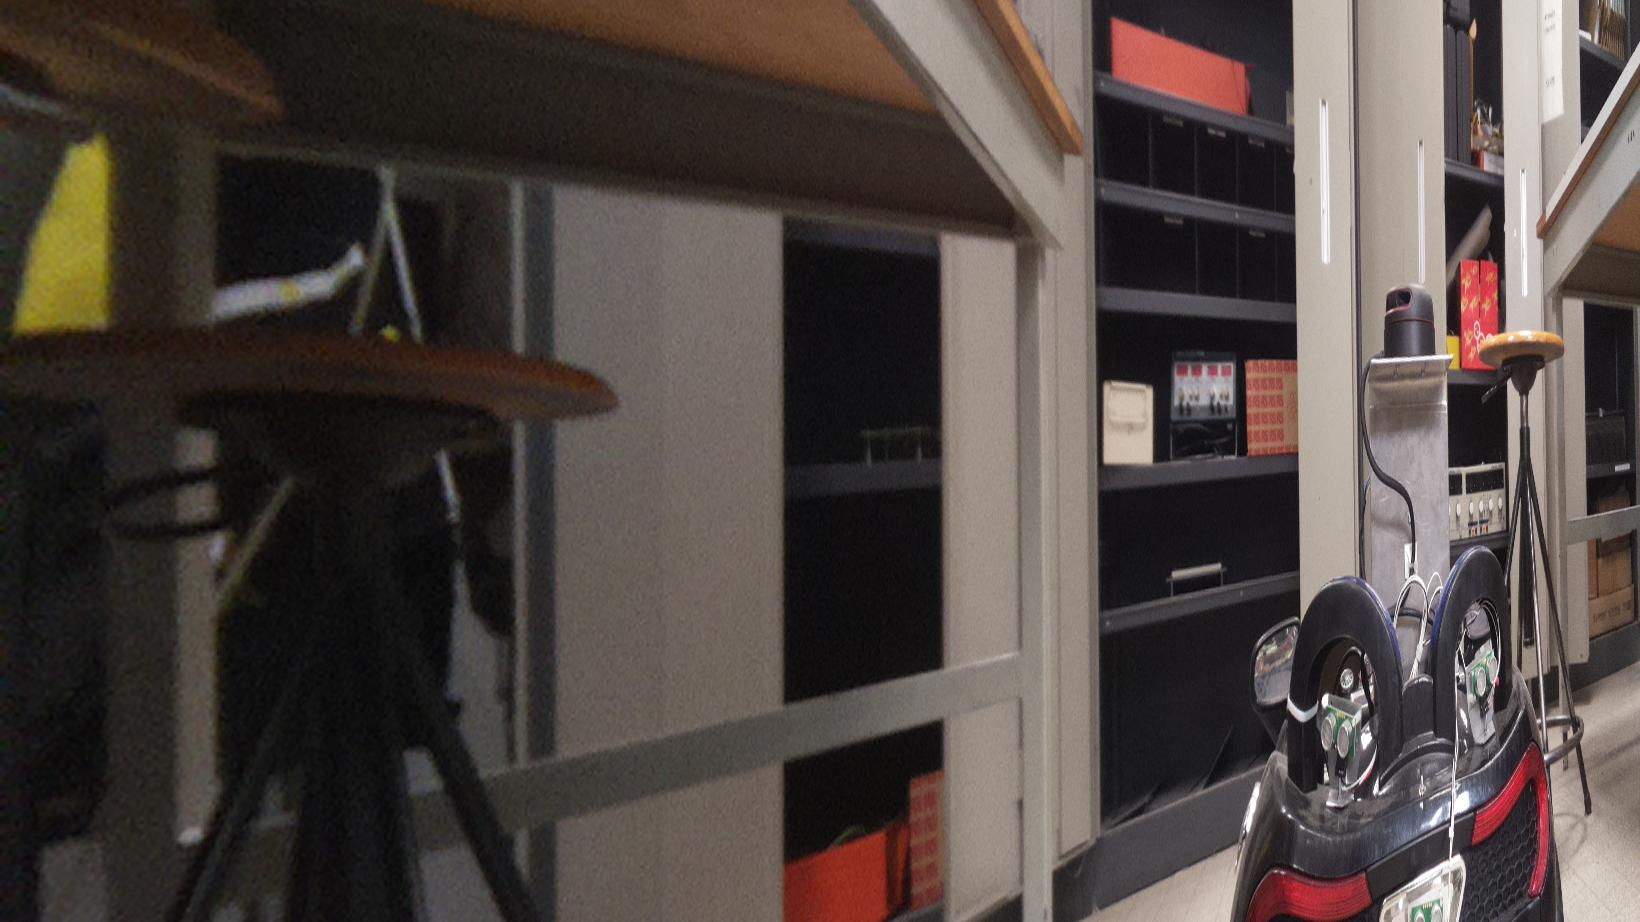big: (1236, 276, 1566, 922)
